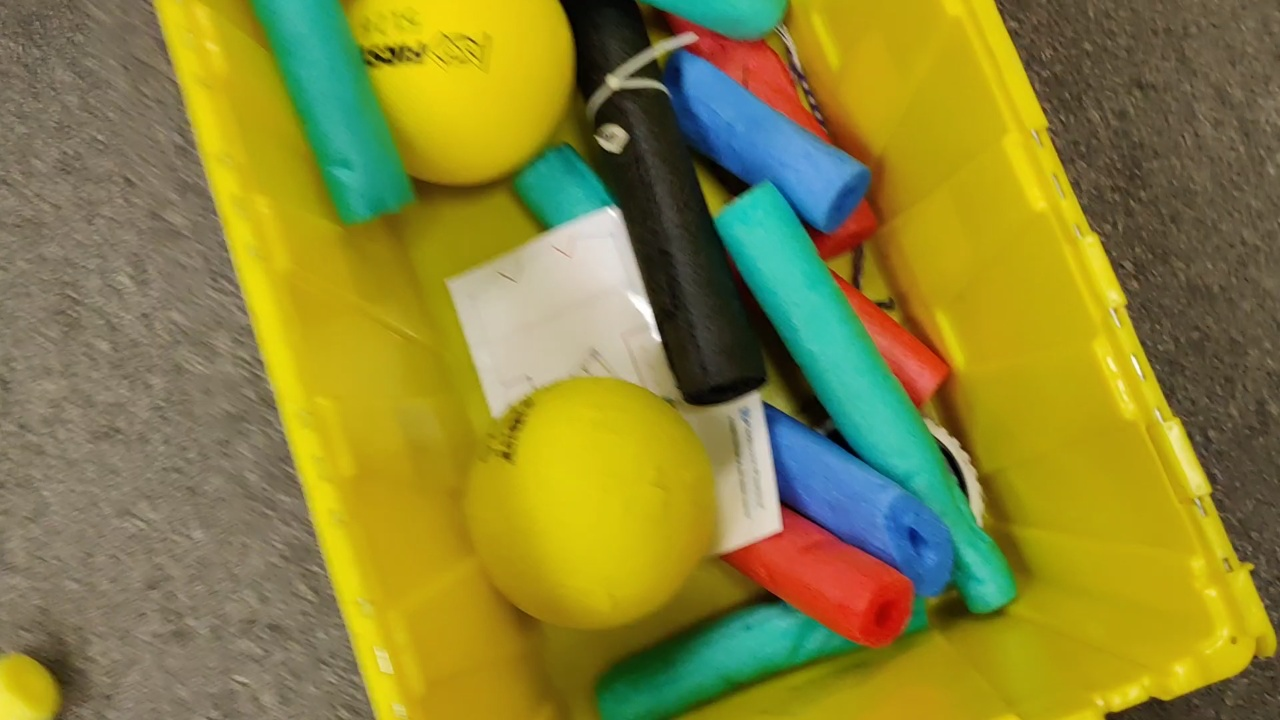Ball: (463, 377, 715, 631), (338, 1, 577, 185)
